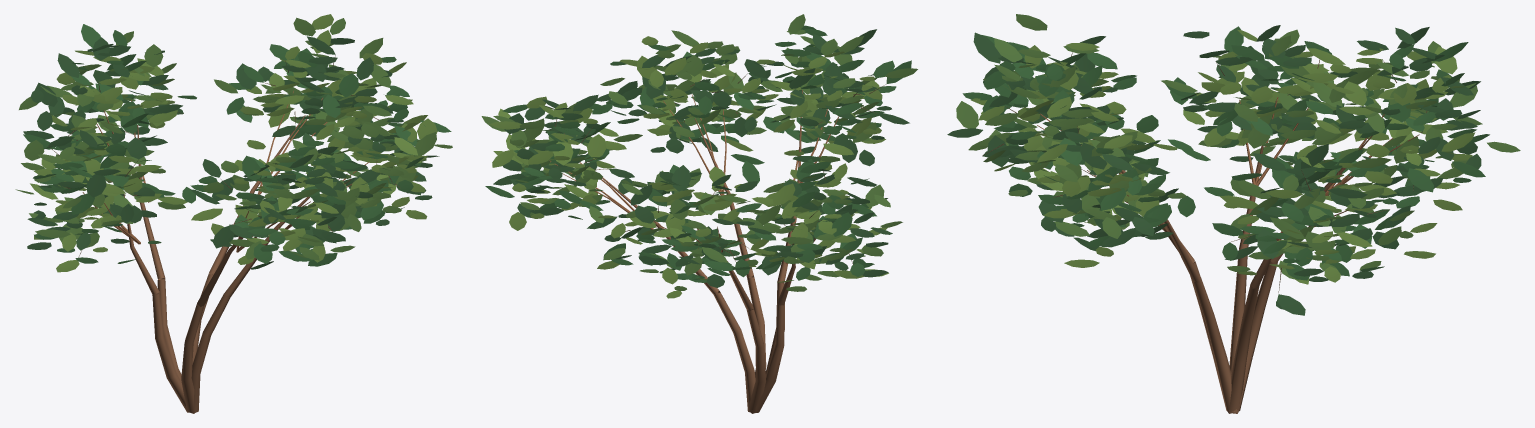
Rendered from ArbousierBuisson_2_High.fbx.
3 renders of one model, left to right at view 1: azimuth 30°, elevation 25°; view 2: azimuth 150°, elevation 25°; view 3: azimuth 270°, elevation 25°, orthographic. The views are drawn at different scales.
Visible parts, largest first — view 1: ArbousierBuisson_2_High; view 2: ArbousierBuisson_2_High; view 3: ArbousierBuisson_2_High.
Part boxes in pixels (left/top/right/bottom): ArbousierBuisson_2_High: left=15, top=14, right=452, bottom=413; ArbousierBuisson_2_High: left=481, top=14, right=917, bottom=413; ArbousierBuisson_2_High: left=947, top=14, right=1520, bottom=413.
Bounding box in the file's own units: 296 × 233 × 323.
